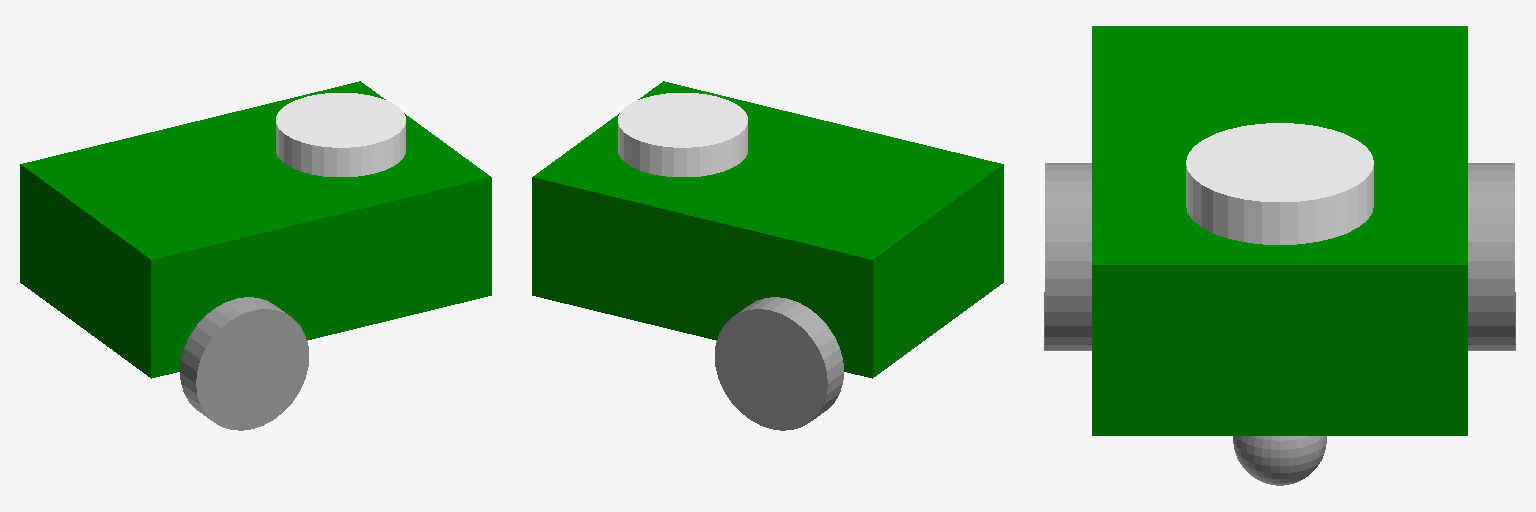
URDF robot description (my_robot):
<?xml version="1.0"?>
<robot name="my_robot">
	<material name="green">
        <color rgba="0 0.6 0 1"/>
    </material>
    <material name="white">
        <color rgba="1 1 1 1"/>
    </material>
    <material name="gray">
        <color rgba="0.7 0.7 0.7 1"/>
    </material>
    <link name="base_link">
        <visual>
            <geometry>
                <box size="0.6 0.4 0.2" />
            </geometry>
            <origin xyz="0 0 0.1" rpy="0 0 0"/>
            <material name="green"/>
        </visual>
    </link>
    <link name="lidar">
		<visual>
		    <geometry>
		        <cylinder radius="0.1" length="0.05" />
		    </geometry>
		    <origin xyz="0 0 0" rpy="0 0 0" />
		    <material name="white"/>
		</visual>
	</link>
	<joint name="base_lidar_joint" type="fixed">
		<parent link="base_link"/>
		<child link="lidar"/>
		<origin xyz="0.15 0 0.225" rpy="0 0 0"/>
	</joint>
	<link name="left_wheel">
		<visual>
		    <geometry>
		        <cylinder radius="0.1" length="0.05" />
		    </geometry>
		    <origin xyz="0 0 0.025" rpy="0 0 0" />
		    <material name="gray"/>
		</visual>
	</link>
	<joint name="base_left_wheel_joint" type="continuous">
		<parent link="base_link"/>
		<child link="left_wheel"/>
		<origin xyz="-0.15 0.2 0" rpy="-1.57 0 0"/>
		<axis xyz="0 0 1"/>
	</joint>
	<link name="right_wheel">
		<visual>
		    <geometry>
		        <cylinder radius="0.1" length="0.05" />
		    </geometry>
		    <origin xyz="0 0 0.025" rpy="0 0 0" />
		    <material name="gray"/>
		</visual>
	</link>
	<joint name="base_right_wheel_joint" type="continuous">
		<parent link="base_link"/>
		<child link="right_wheel"/>
		<origin xyz="-0.15 -0.2 0" rpy="1.57 0 0"/>
		<axis xyz="0 0 1"/>
	</joint>
	<link name="caster_wheel">
		<visual>
		    <geometry>
		        <sphere radius="0.05" />
		    </geometry>
		    <origin xyz="0 0 0" rpy="0 0 0" />
		    <material name="gray" />
		</visual>
	</link>
	<joint name="base_caster_wheel_joint" type="fixed">
		<parent link="base_link" />
		<child link="caster_wheel"/>
		<origin xyz="0.2 0 -0.05" rpy="0 0 0" />
	</joint>
	<link name="base_footprint"/>
	<joint name="base_joint" type="fixed">
		<parent link="base_footprint" />
		<child link="base_link" />
		<origin xyz="0 0 0.1" rpy="0 0 0" />
	</joint>
</robot>

--- What the picture shows (computed from the rendered views, not written in the file) ---
Views: 3 orthographic renders of the robot side by side, from view 1: azimuth 30°, elevation 25°; view 2: azimuth 150°, elevation 25°; view 3: azimuth 270°, elevation 25°.
Model my_robot with 6 links and 5 joints (2 continuous, 3 fixed), rooted at base_footprint, posed all joints at 0.
Links seen in each view (by area): view 1: base_link, right_wheel, lidar; view 2: base_link, left_wheel, lidar; view 3: base_link, lidar, left_wheel, right_wheel, caster_wheel.
Boxes of the visible links, box(x1,y1,x2,y2) form: base_link: box(20, 81, 491, 378); right_wheel: box(180, 297, 308, 430); lidar: box(276, 93, 405, 176); base_link: box(532, 81, 1003, 378); left_wheel: box(715, 297, 843, 430); lidar: box(618, 93, 747, 176); base_link: box(1092, 26, 1467, 435); lidar: box(1186, 123, 1373, 244); left_wheel: box(1468, 163, 1515, 350); right_wheel: box(1044, 163, 1091, 350); caster_wheel: box(1233, 436, 1326, 485).
Bounding box of the posed robot: 0.6 × 0.5002 × 0.35 m (x, y, z).
Geometry: primitives only (box / cylinder / sphere), no mesh files.
